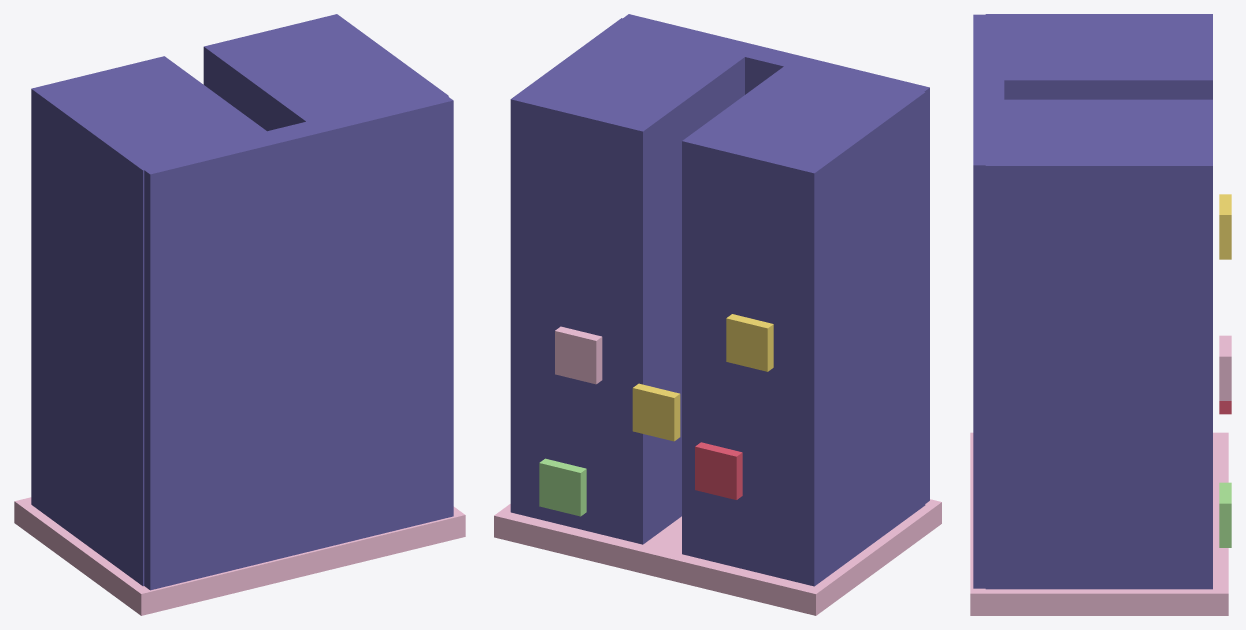
The model's file is yukata_saia.glb.
3 renders of one model, left to right at view 1: azimuth 30°, elevation 25°; view 2: azimuth 150°, elevation 25°; view 3: azimuth 270°, elevation 25°, orthographic. The views are drawn at different scales.
Visible parts, largest first — view 1: yukata_saia; view 2: yukata_saia; view 3: yukata_saia.
Part boxes in pixels (x1,y1,x2,y2): yukata_saia: (14, 14, 465, 615); yukata_saia: (494, 14, 941, 615); yukata_saia: (970, 14, 1231, 615).
Size of the model in its own units: 0.62 by 0.8 by 0.425.
